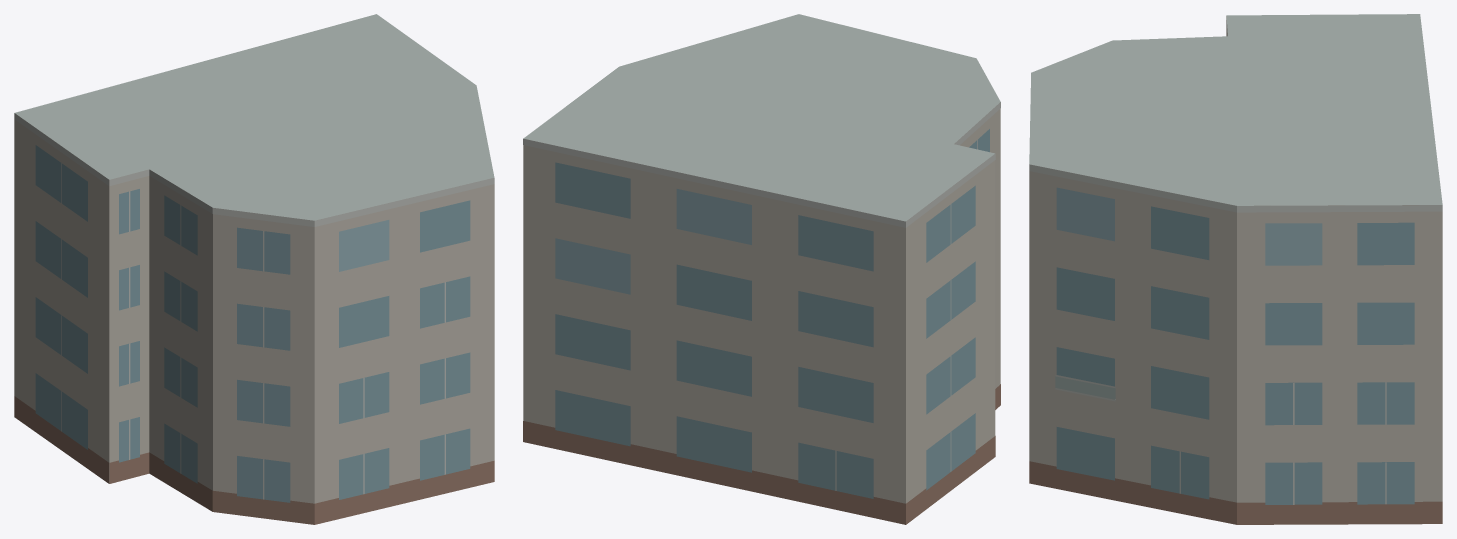
File: survey-upis-33032735.glb
3 views of the same model, side by side, from view 1: azimuth 30°, elevation 25°; view 2: azimuth 150°, elevation 25°; view 3: azimuth 270°, elevation 25° (orthographic). The views are drawn at different scales.
Visible parts, largest first — view 1: survey-upis-33032735.tmp; view 2: survey-upis-33032735.tmp; view 3: survey-upis-33032735.tmp.
Boxes of the visible parts, x1=… form: survey-upis-33032735.tmp: x1=14, y1=14, x2=494, y2=524; survey-upis-33032735.tmp: x1=523, y1=14, x2=1000, y2=524; survey-upis-33032735.tmp: x1=1029, y1=14, x2=1442, y2=524.
Size of the model in its own units: 14.97 by 11.6 by 13.64.
